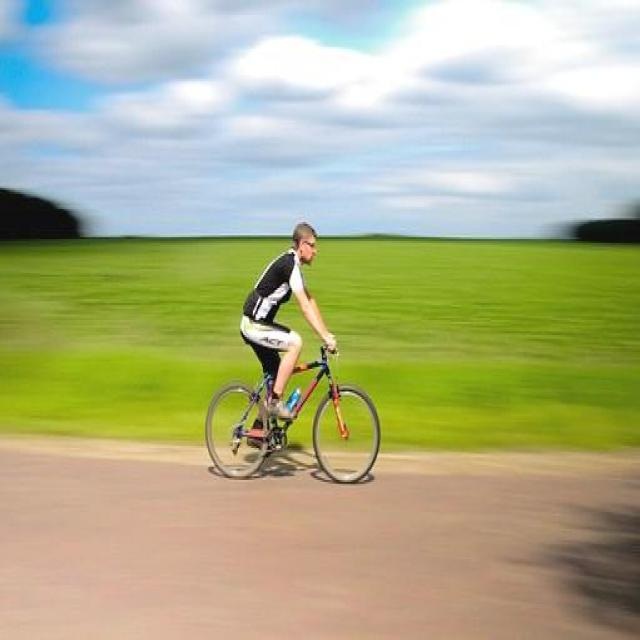bikerider: (190, 213, 386, 493)
